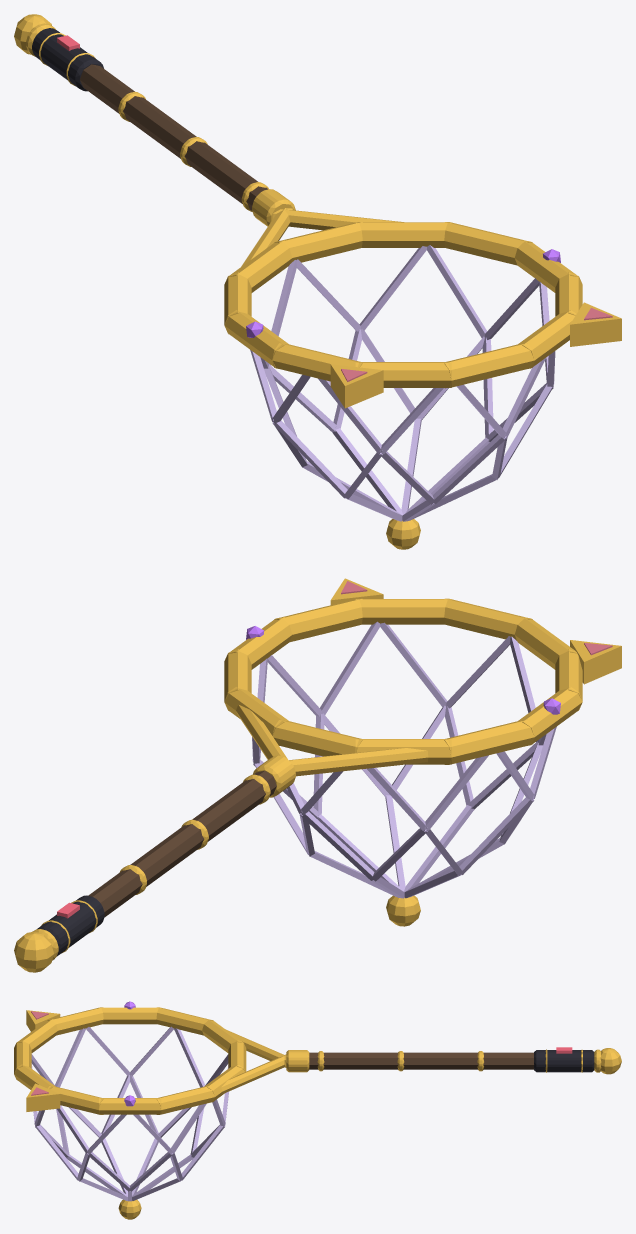
File: CatCafe_Item_Net_L4.fbx
3 views of the same model, one above another, from view 1: azimuth 30°, elevation 25°; view 2: azimuth 150°, elevation 25°; view 3: azimuth 270°, elevation 25° (orthographic). The views are drawn at different scales.
Visible parts, largest first — view 1: CatCafe_Item_Net_L4_Hoop, CatCafe_Item_Net_L4_Bag, CatCafe_Item_Net_L4_Handle; view 2: CatCafe_Item_Net_L4_Hoop, CatCafe_Item_Net_L4_Bag, CatCafe_Item_Net_L4_Handle; view 3: CatCafe_Item_Net_L4_Hoop, CatCafe_Item_Net_L4_Bag, CatCafe_Item_Net_L4_Handle.
Part boxes in pixels (bbox=[...]): CatCafe_Item_Net_L4_Hoop: bbox=[224, 222, 621, 408]; CatCafe_Item_Net_L4_Bag: bbox=[250, 245, 555, 549]; CatCafe_Item_Net_L4_Handle: bbox=[14, 14, 403, 266]; CatCafe_Item_Net_L4_Hoop: bbox=[224, 578, 621, 764]; CatCafe_Item_Net_L4_Bag: bbox=[252, 621, 556, 926]; CatCafe_Item_Net_L4_Handle: bbox=[14, 704, 428, 972]; CatCafe_Item_Net_L4_Hoop: bbox=[14, 1001, 246, 1114]; CatCafe_Item_Net_L4_Bag: bbox=[31, 1026, 228, 1219]; CatCafe_Item_Net_L4_Handle: bbox=[221, 1029, 621, 1094].
Size of the model in its own units: 2.63 by 2.12 by 6.85.
Materials: 1 (1 with a texture image).
